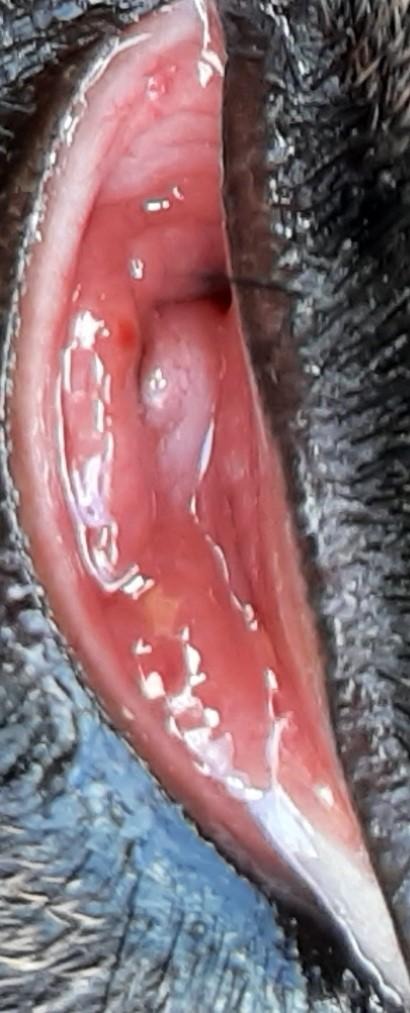eye_membrane: (6, 0, 408, 1007)
